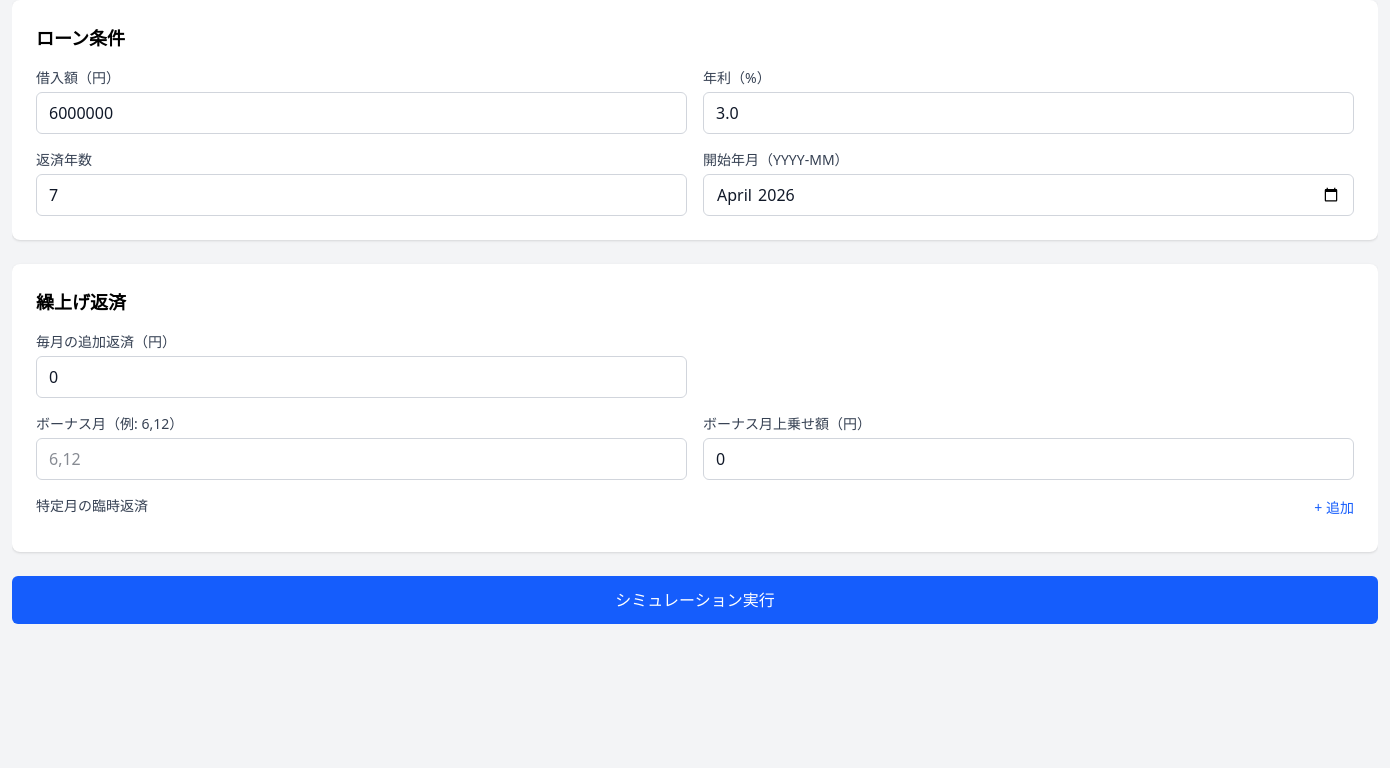
Test: LoanForm › バリデーション › 年利が負の場合エラーが表示される
Replace the text in the number field labelled "年利（%）" with "-1": (1028, 113) x1=703 y1=92 x2=1354 y2=134
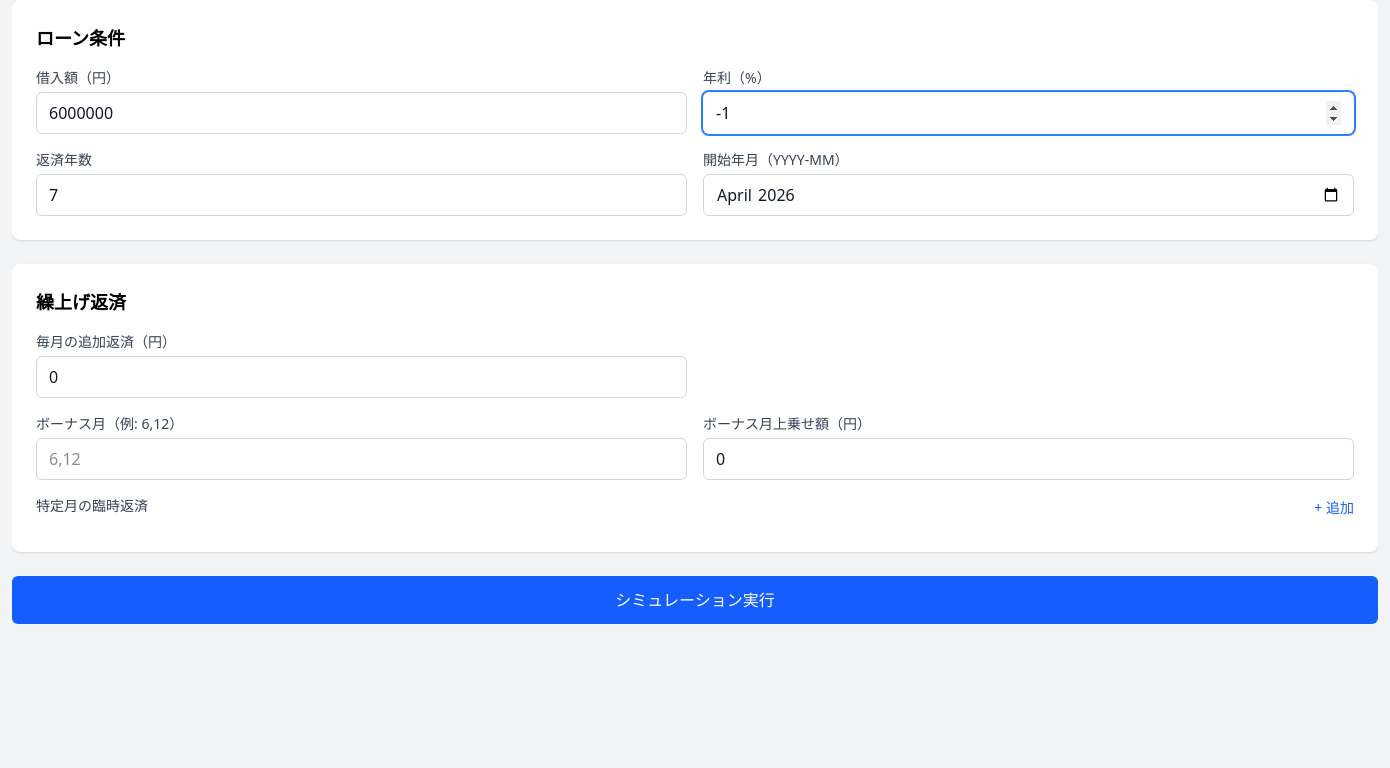
Click the button "シミュレーション実行": (695, 600) x1=12 y1=576 x2=1378 y2=624
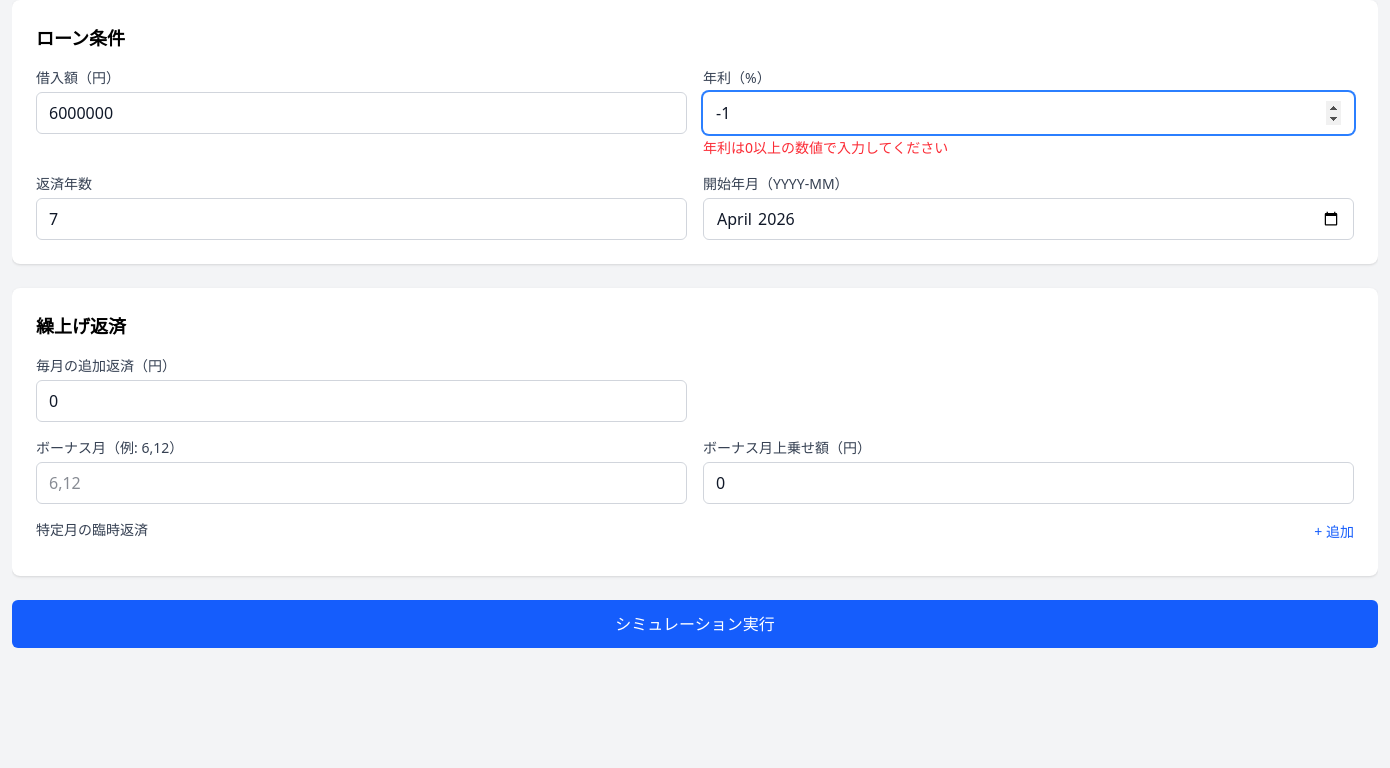
Expected: the text "年利は0以上の数値で入力してください" is shown, x1=703 y1=138 x2=948 y2=157
